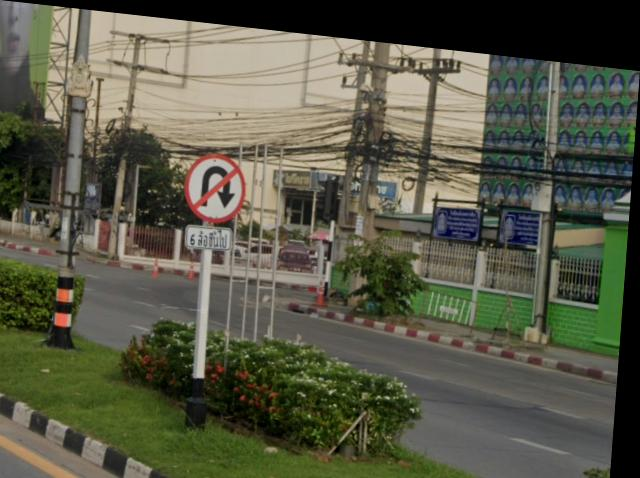not_u_turn_right: (186, 145, 252, 217)
